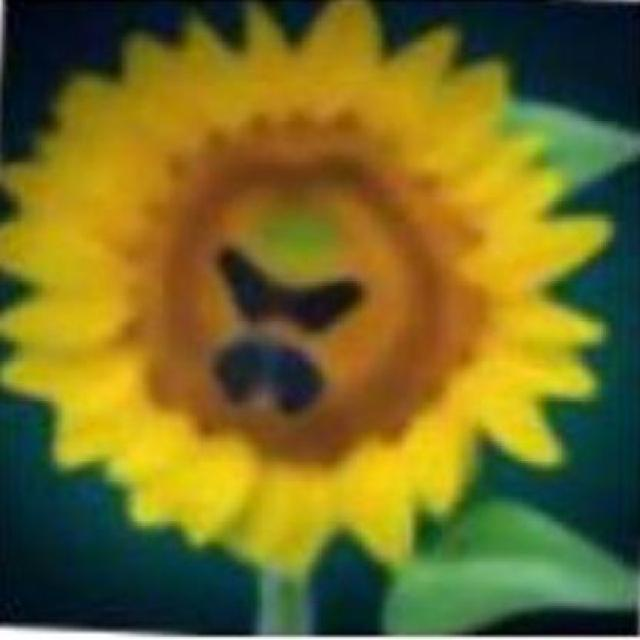sunflower: (0, 8, 595, 574)
